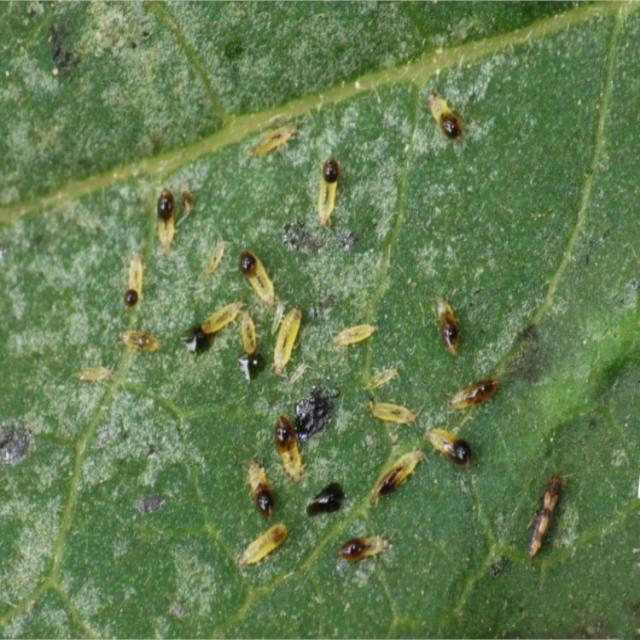Thrip-Adult-: (517, 466, 574, 564)
Thrip-Larva-: (145, 176, 191, 256), (274, 296, 312, 375), (420, 414, 478, 464), (421, 86, 467, 144), (275, 412, 313, 480), (364, 391, 422, 431), (241, 521, 290, 568), (431, 282, 459, 358), (382, 448, 427, 494), (242, 455, 276, 514), (308, 150, 334, 227), (251, 118, 299, 159), (328, 313, 381, 350), (198, 298, 247, 337), (123, 250, 151, 317), (362, 358, 408, 394), (238, 307, 262, 357)
